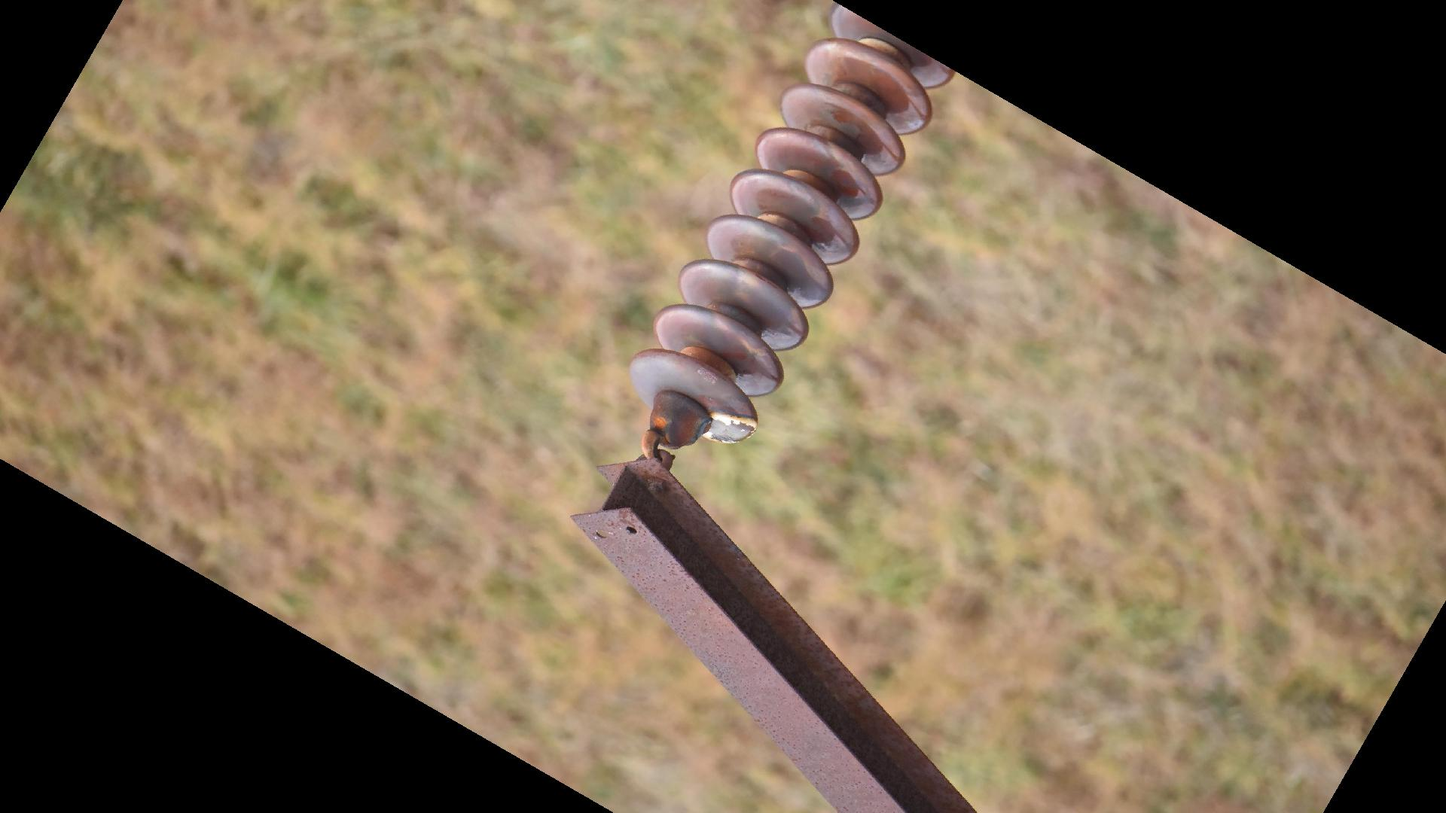insulator: (623, 1, 958, 452)
insulator_flashover: (702, 410, 759, 446)
